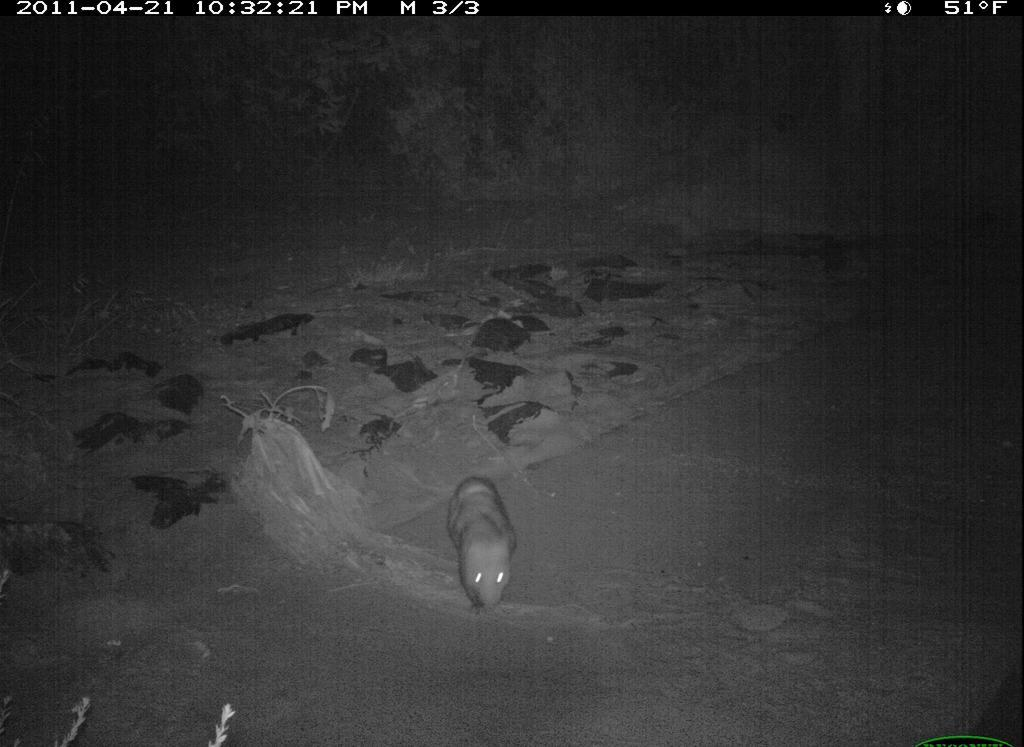opossum: (427, 472, 534, 624)
